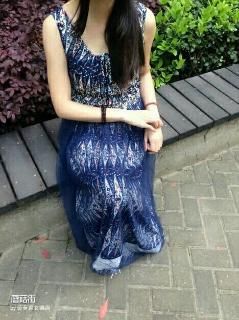vest: (51, 0, 165, 275)
